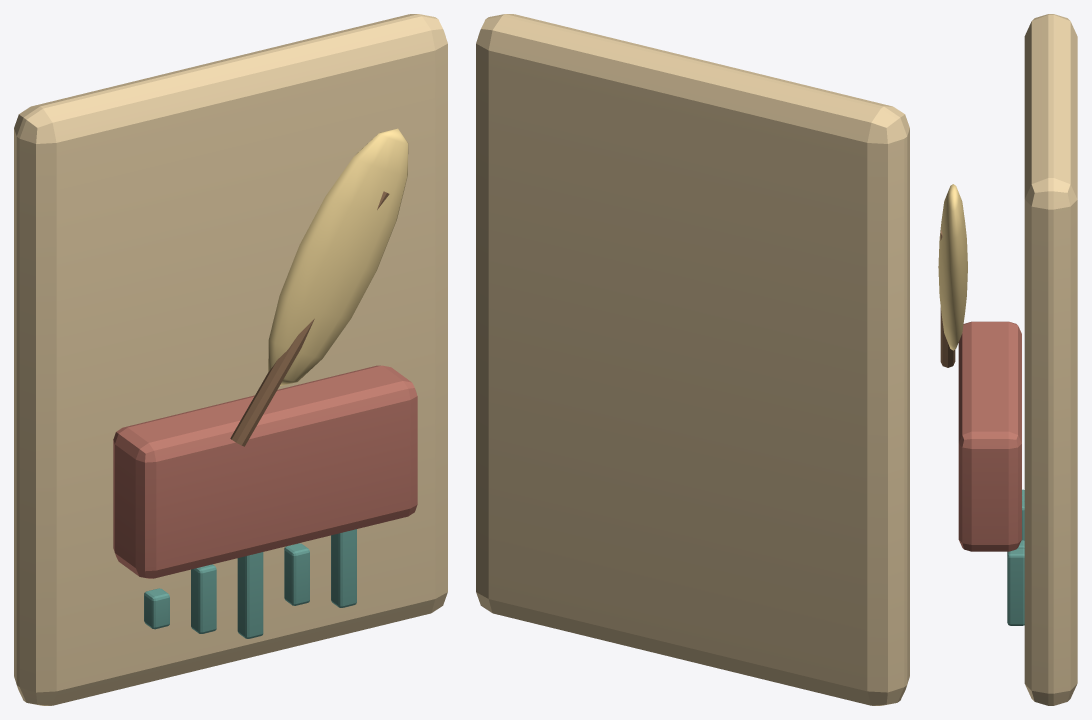
The model's file is voice_shakespearean.glb.
3 renders of one model, left to right at view 1: azimuth 30°, elevation 25°; view 2: azimuth 150°, elevation 25°; view 3: azimuth 270°, elevation 25°, orthographic. The views are drawn at different scales.
Parts seen in each view (by area): view 1: card, book, quill, waveform.002, quill_stem, waveform.004, waveform.001, waveform.003, waveform; view 2: card; view 3: card, book, quill, waveform.004, quill_stem.
Part boxes in pixels (x1,y1,x2,y2): card: (14, 14, 447, 705); book: (113, 365, 417, 578); quill: (268, 128, 408, 385); waveform.002: (237, 552, 263, 638); quill_stem: (230, 191, 389, 446); waveform.004: (331, 529, 356, 607); waveform.001: (191, 564, 216, 633); waveform.003: (284, 543, 309, 605); waveform: (144, 588, 169, 629); card: (476, 14, 909, 705); card: (1024, 14, 1077, 705); book: (958, 321, 1021, 551); quill: (938, 184, 967, 350); waveform.004: (1007, 548, 1024, 625); quill_stem: (940, 230, 955, 367).
Bounding box in the file's own units: 0.82 × 1.1 × 0.263.
